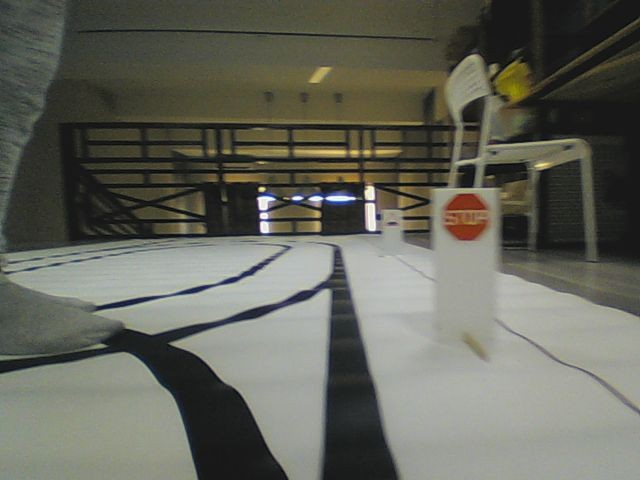Stop: (443, 192, 490, 242)
